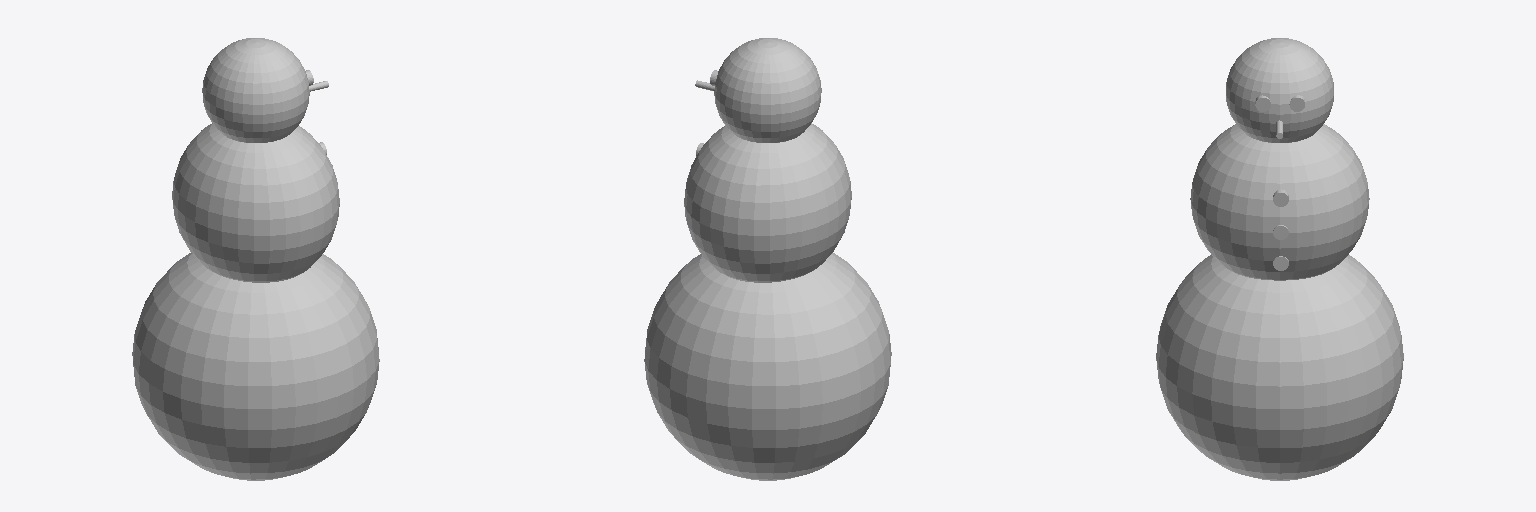
The model's file is snowman.obj.
3 renders of one model, left to right at view 1: azimuth 30°, elevation 25°; view 2: azimuth 150°, elevation 25°; view 3: azimuth 270°, elevation 25°, orthographic.
Parts seen in each view (by area): view 1: Cylinder; view 2: Cylinder; view 3: Cylinder.
Part boxes in pixels (left/top/right/bottom): Cylinder: left=132, top=38, right=379, bottom=480; Cylinder: left=644, top=38, right=891, bottom=480; Cylinder: left=1156, top=38, right=1403, bottom=480.
Size of the model in its own units: 2 by 3.8 by 2.